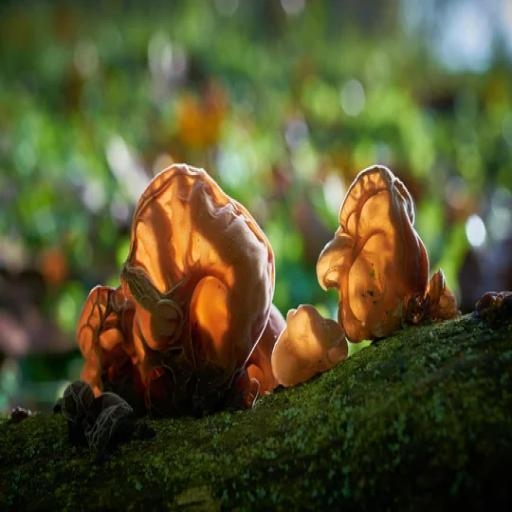mushroom: (72, 162, 293, 429), (317, 162, 463, 347), (274, 305, 352, 398)
